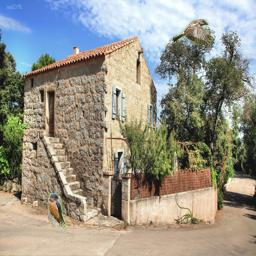Sparrow: (173, 19, 213, 45)
Swallow: (48, 193, 67, 233)
